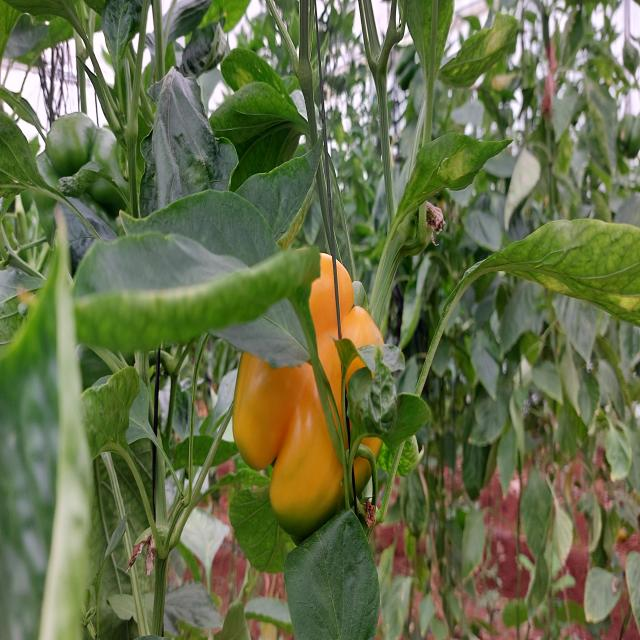Yellow-Ready-to-Harvest: (233, 250, 386, 510)
